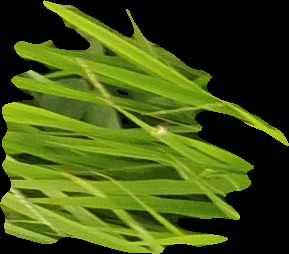grass: (1, 1, 288, 252)
